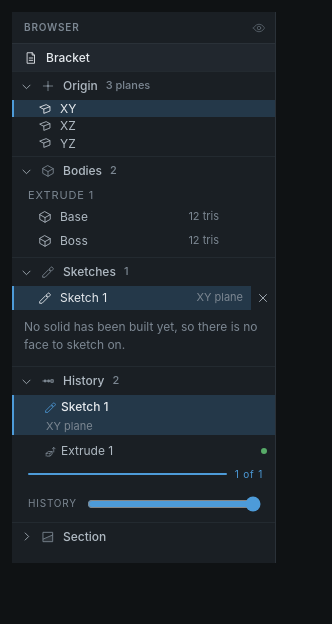
Test case: the model browser › offers the section controls only once there is something to cut
Step 1. Click the button "Section" → point(142, 537), box [12,523,271,551]
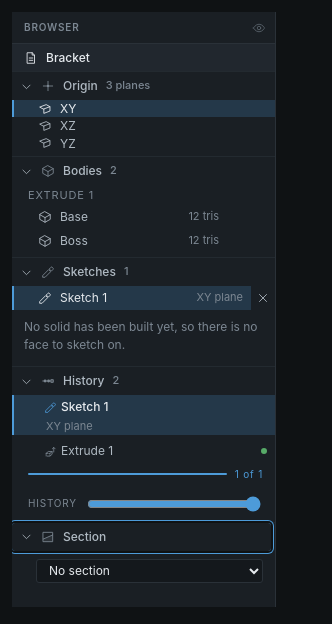
expect the dropdown named "Section mode" is shown: met, box [36,559,263,583]
